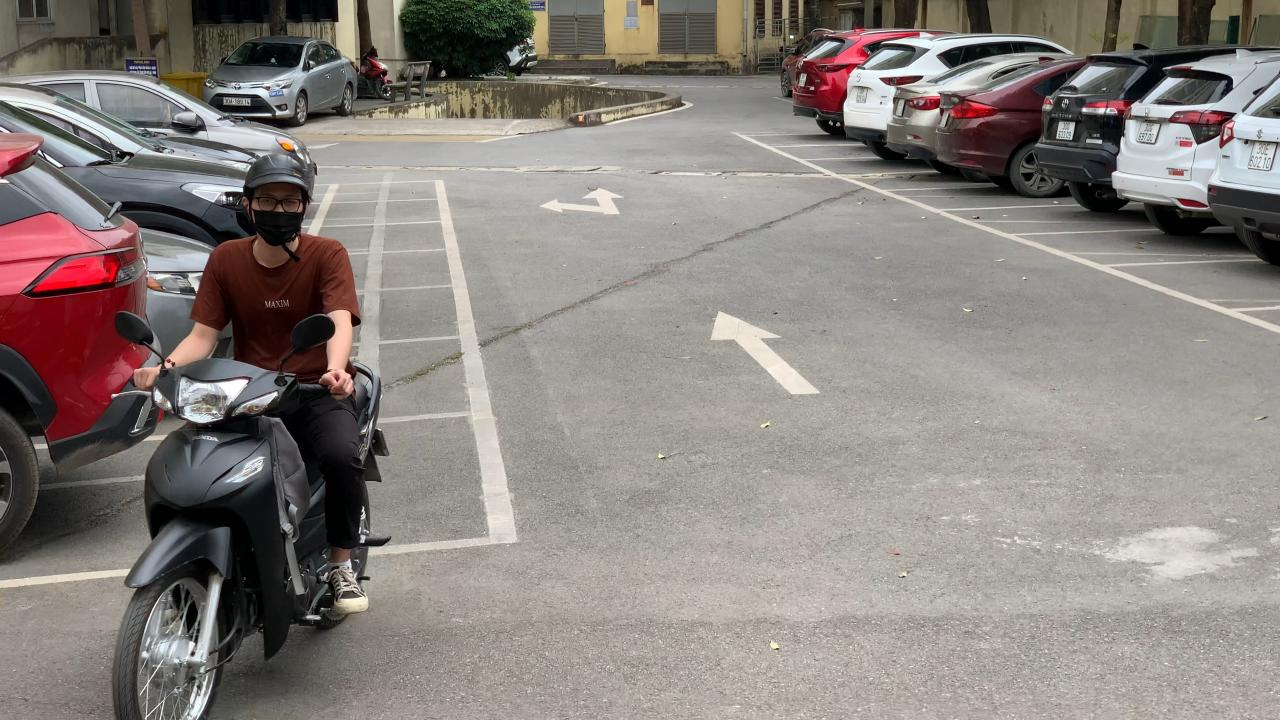helmet: (245, 152, 309, 191)
motorcyclist: (113, 151, 391, 720)
